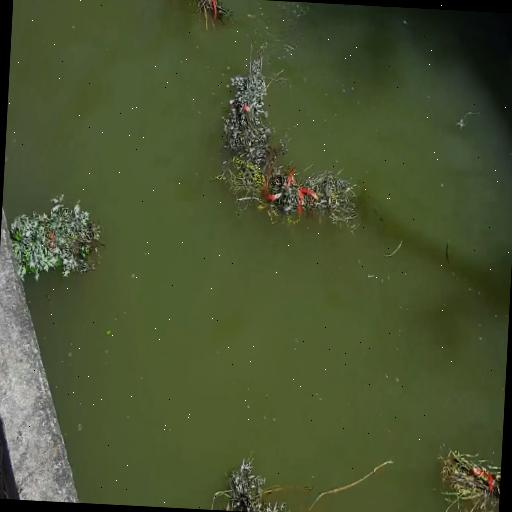twig: (222, 158, 360, 230), (8, 192, 106, 282), (220, 38, 284, 166), (211, 451, 310, 512), (435, 444, 502, 512), (185, 0, 233, 33)
